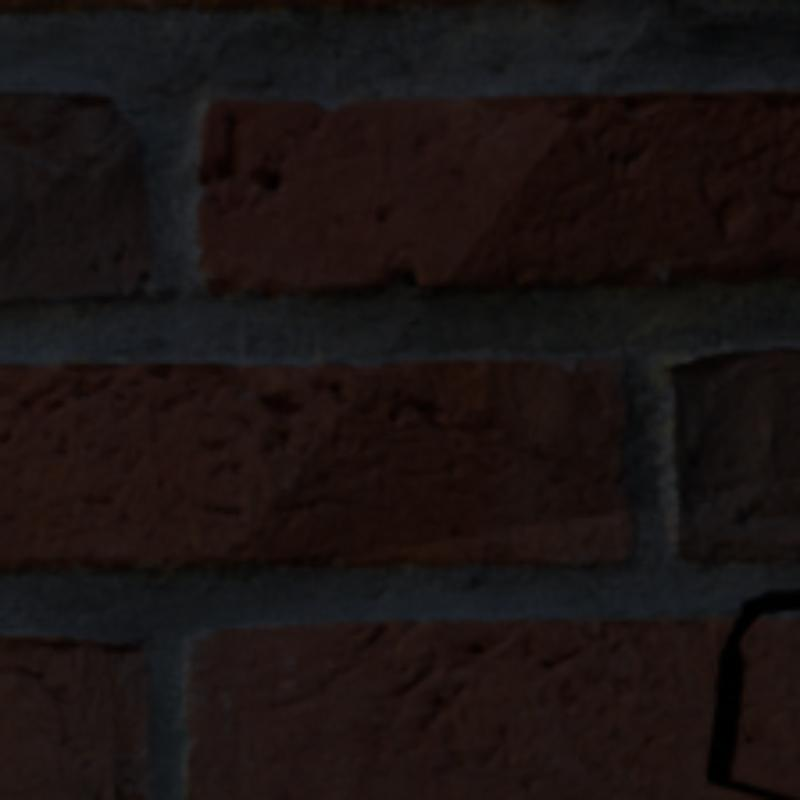pothole: (707, 589, 796, 796)
